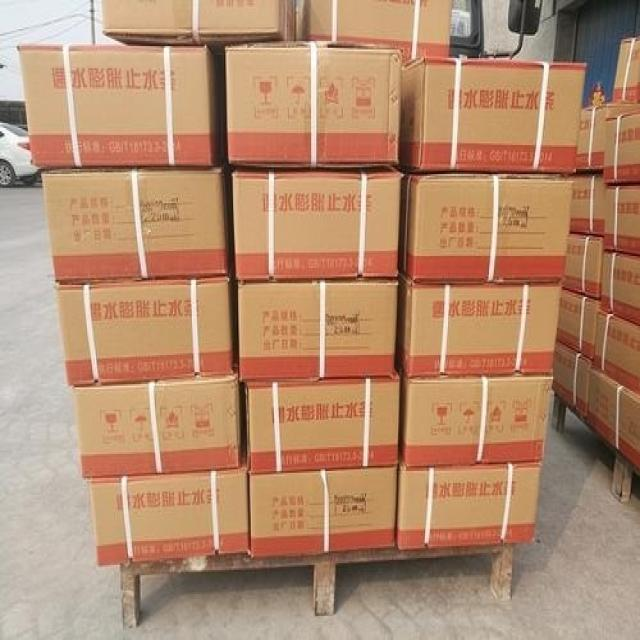box: (17, 44, 221, 164), (38, 160, 229, 283), (225, 36, 403, 167), (401, 56, 586, 174), (230, 162, 402, 280), (398, 169, 572, 283), (52, 276, 234, 384), (73, 370, 241, 480), (88, 452, 248, 567), (236, 276, 399, 382), (398, 276, 562, 381), (399, 372, 554, 468), (244, 377, 401, 471), (396, 456, 544, 551), (248, 466, 399, 556), (102, 0, 297, 53), (296, 0, 451, 60), (586, 367, 640, 471), (590, 309, 640, 399), (576, 101, 640, 171), (598, 249, 640, 328), (552, 343, 590, 422), (557, 290, 598, 360), (603, 109, 640, 186), (602, 184, 640, 256), (561, 236, 602, 300), (568, 171, 604, 237), (611, 36, 640, 102)
